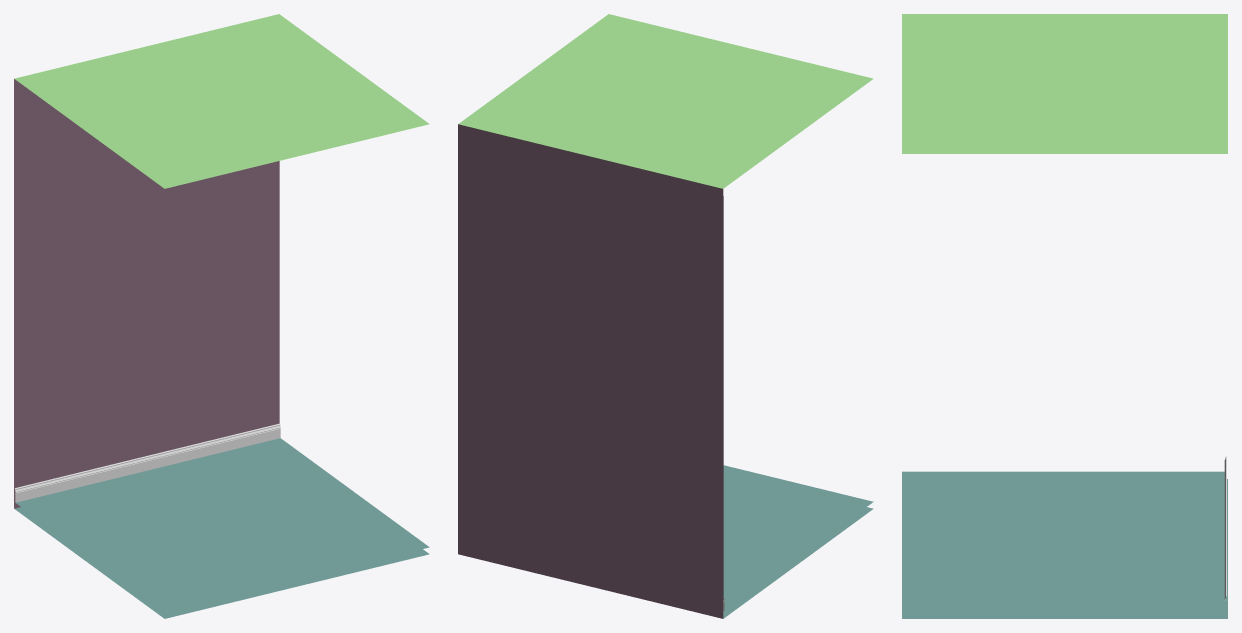
Rendered from Room_wall_2x2_side.fbx.
The picture shows the model from 3 angles, left to right: view 1: azimuth 30°, elevation 25°; view 2: azimuth 150°, elevation 25°; view 3: azimuth 270°, elevation 25°; orthographic projection. The views are drawn at different scales.
Visible parts, largest first — view 1: Wall_2x2_side; view 2: Wall_2x2_side; view 3: Wall_2x2_side.
Part boxes in pixels (x1=…): Wall_2x2_side: x1=14, y1=14, x2=429, y2=618; Wall_2x2_side: x1=458, y1=14, x2=873, y2=618; Wall_2x2_side: x1=902, y1=14, x2=1227, y2=618.
Bounding box in the file's own units: 2 × 3.1 × 1.97.
